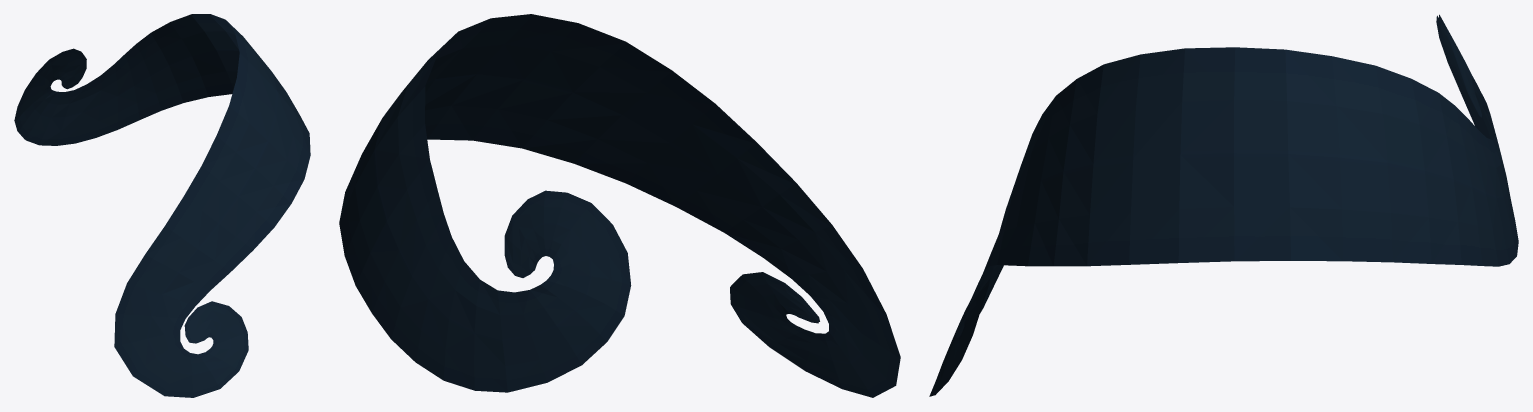
Rendered from CharSkyKid_Neck_AP31Starry.glb.
3 renders of one model, left to right at view 1: azimuth 30°, elevation 25°; view 2: azimuth 150°, elevation 25°; view 3: azimuth 270°, elevation 25°, orthographic. The views are drawn at different scales.
Parts seen in each view (by area): view 1: CharSkyKid_Neck_AP31Starry; view 2: CharSkyKid_Neck_AP31Starry; view 3: CharSkyKid_Neck_AP31Starry.
Part boxes in pixels (x1,y1,x2,y2): CharSkyKid_Neck_AP31Starry: [14, 14, 310, 397]; CharSkyKid_Neck_AP31Starry: [339, 14, 900, 397]; CharSkyKid_Neck_AP31Starry: [929, 14, 1518, 396].
Size of the model in its own units: 5.92 by 5.95 by 7.13.
1 material, 1 textured.
